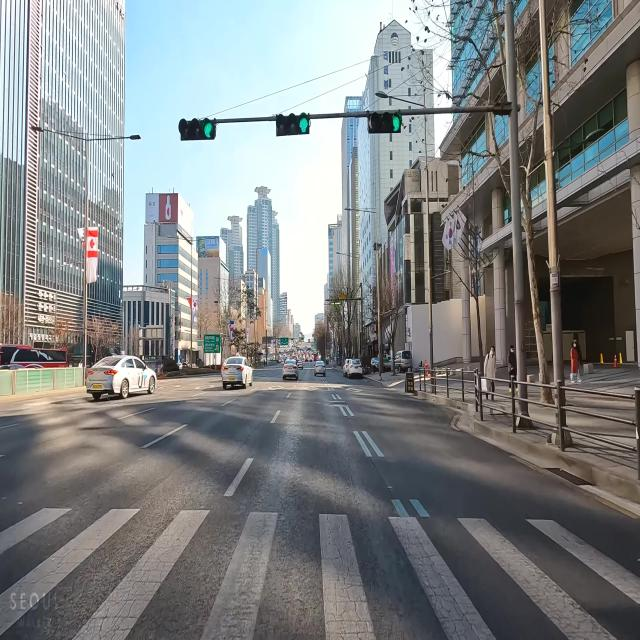Green Light: (392, 112, 402, 135), (203, 118, 213, 139), (299, 113, 309, 133)
